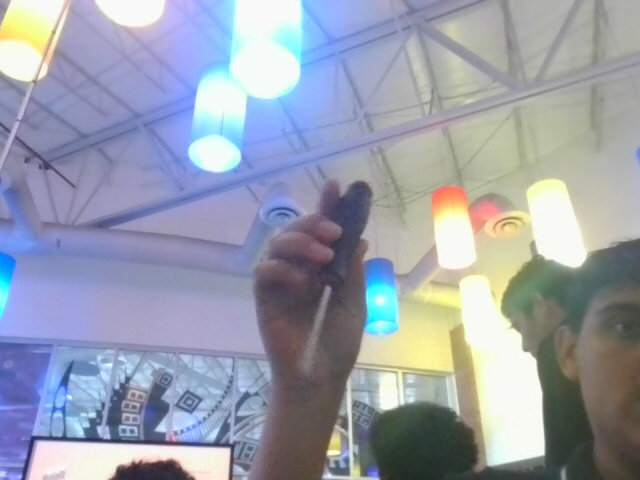destornillador: (298, 179, 373, 379)
